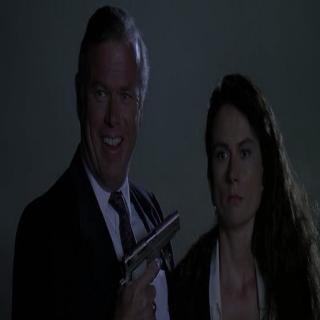gun: (118, 213, 183, 308)
